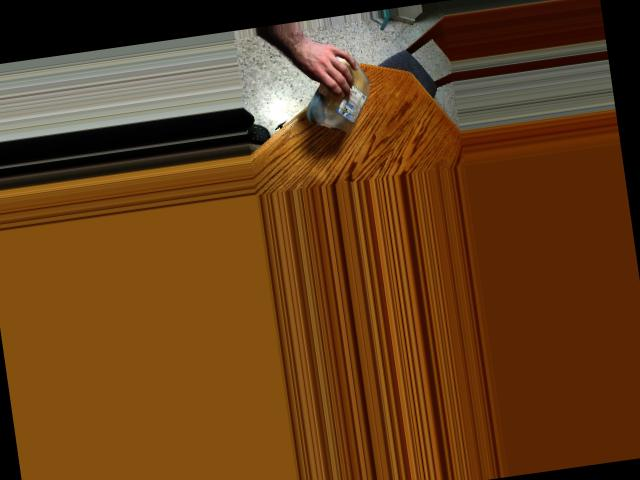cheese: (302, 47, 378, 134)
